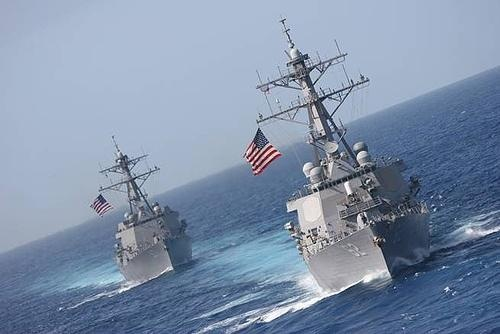boat: (249, 14, 436, 292), (93, 134, 198, 290)
